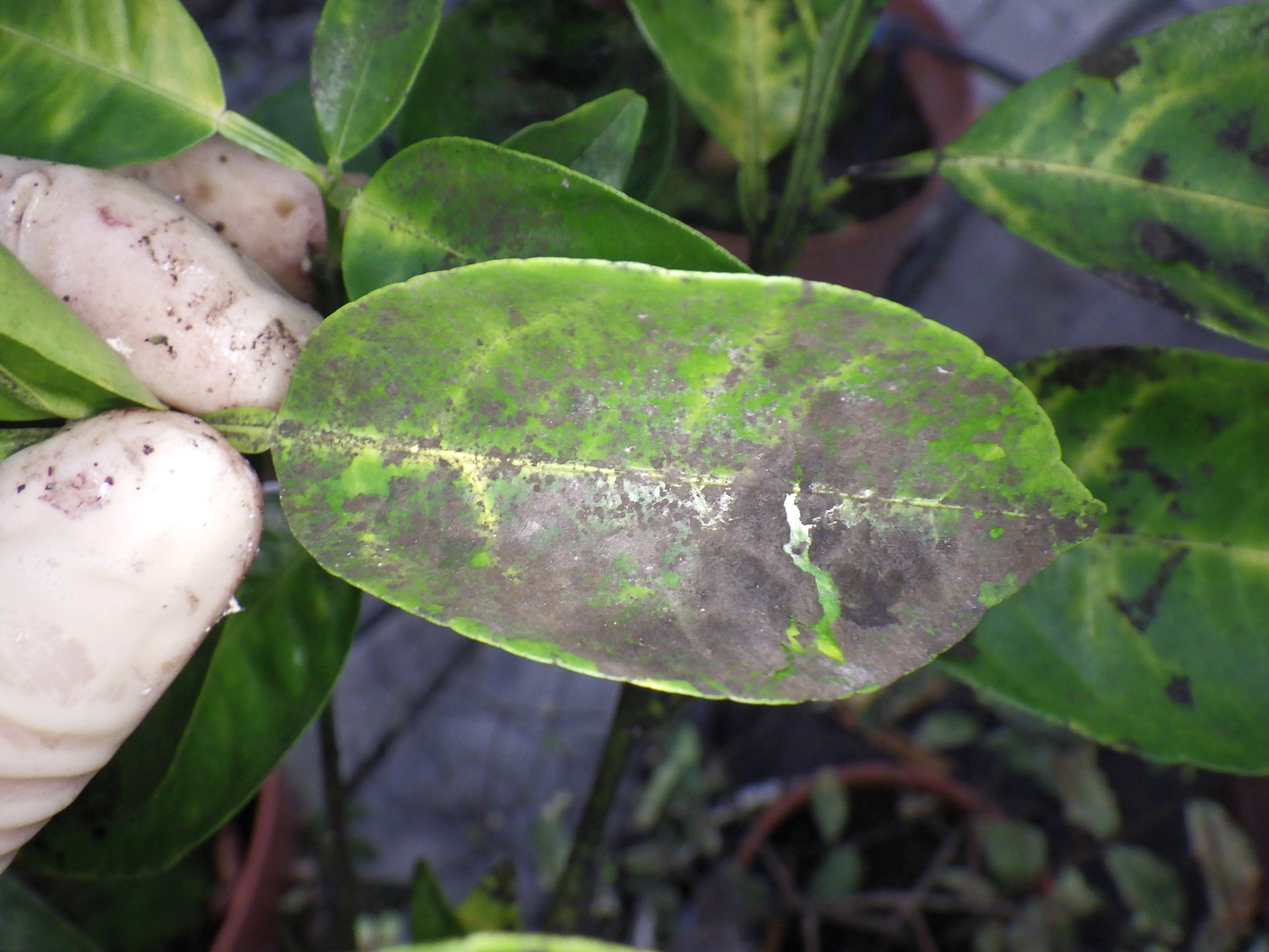Sooty_Mold: (273, 258, 1100, 702)
